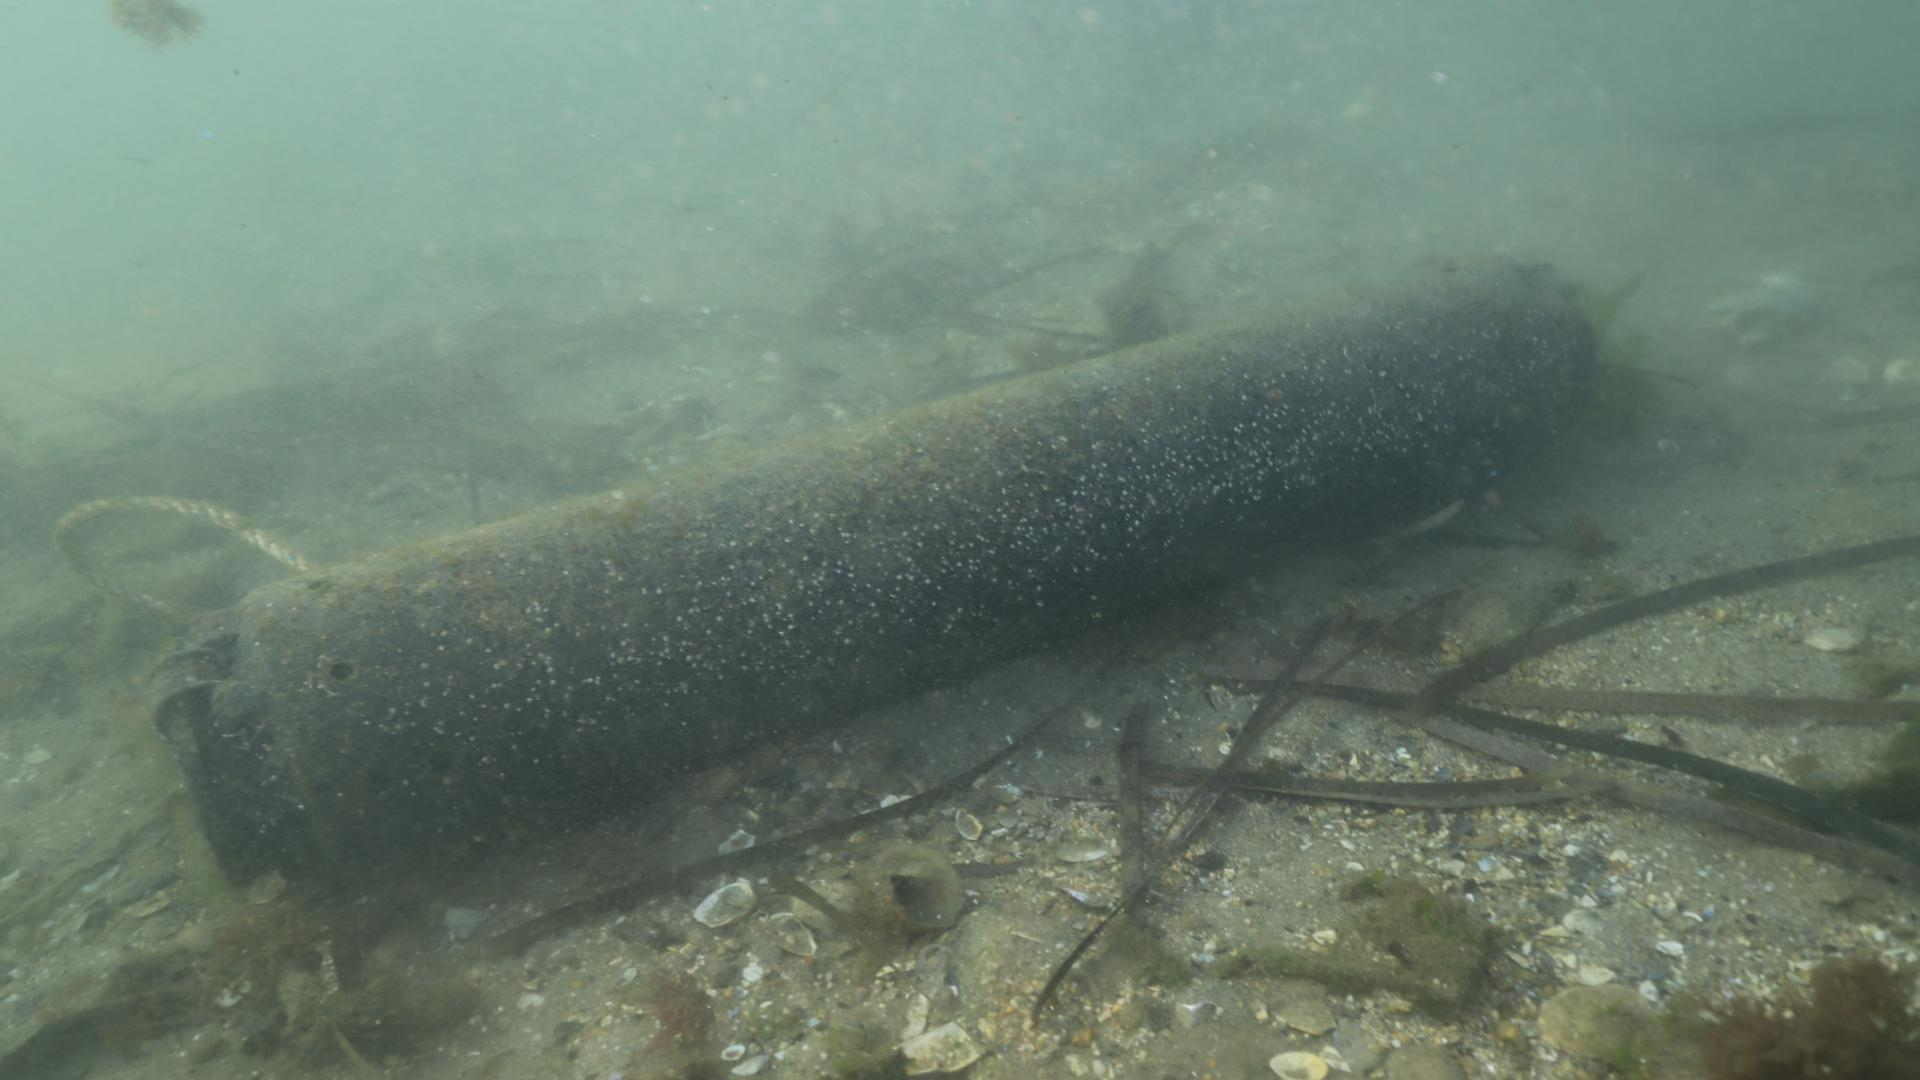eel fish trap: (152, 252, 1600, 890)
rope: (50, 491, 315, 624)
